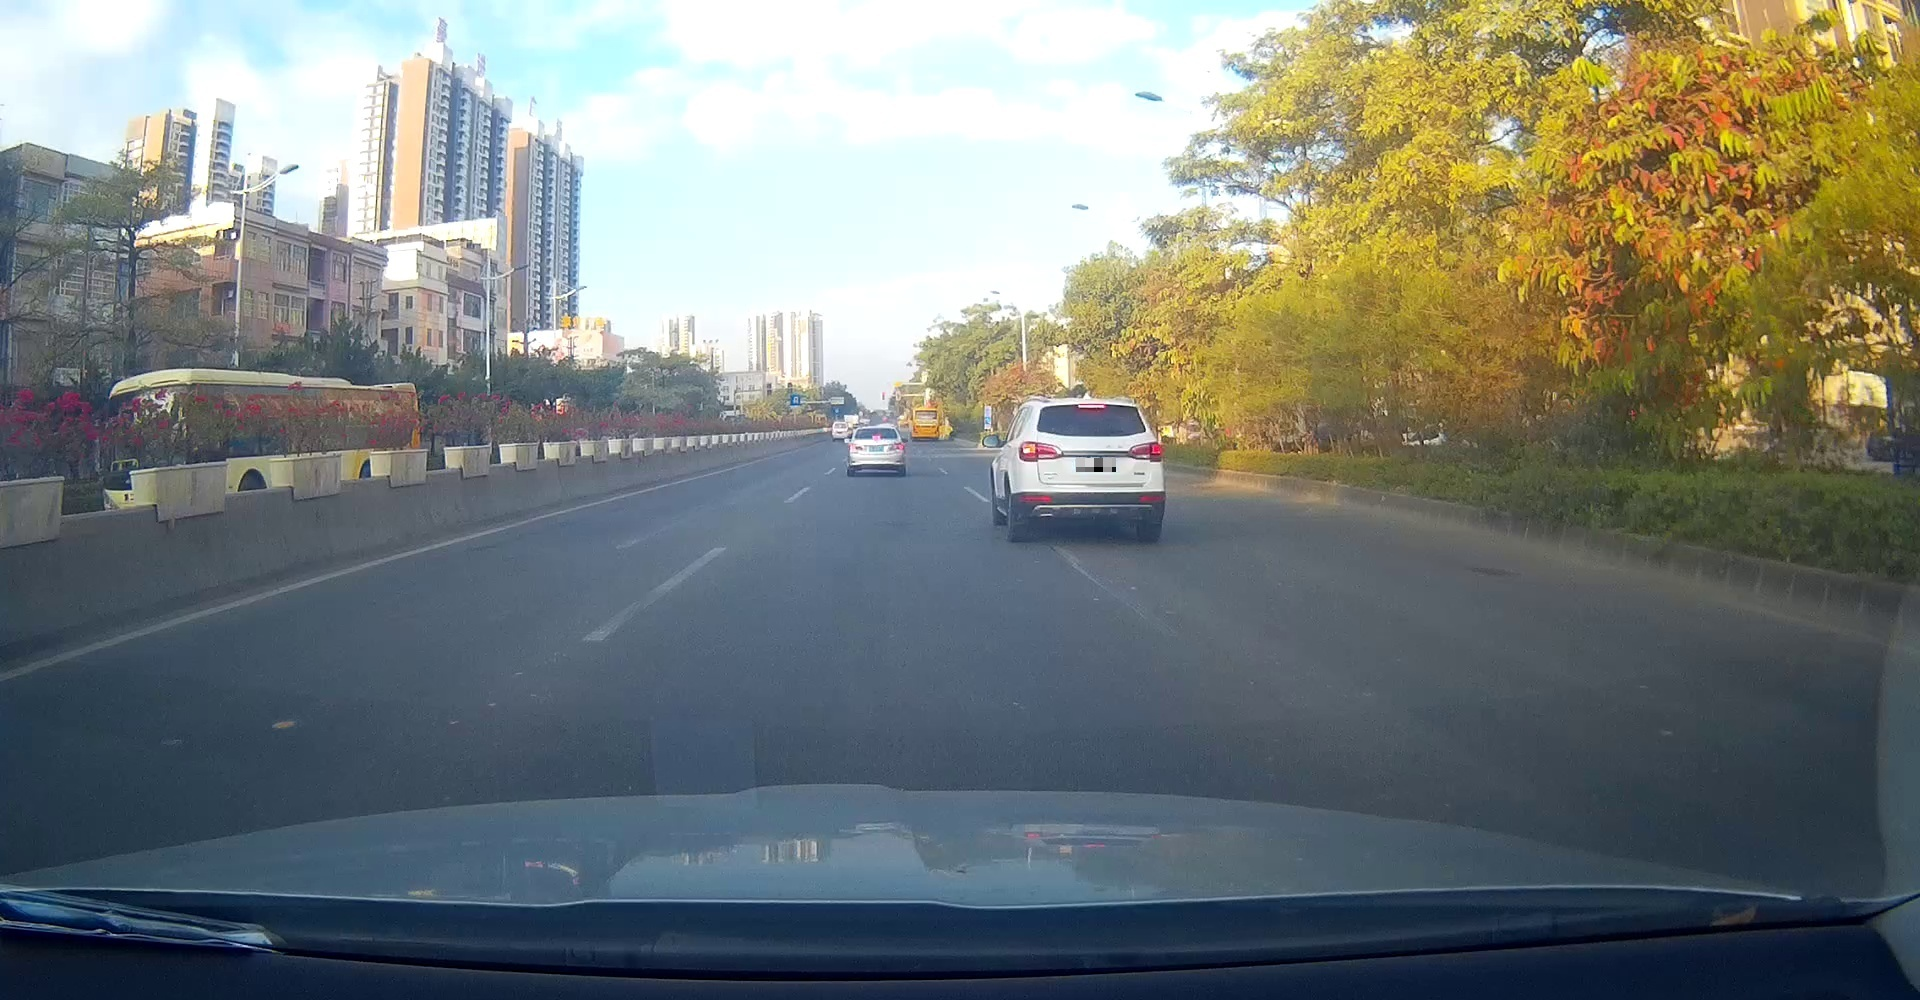L_light: (1018, 440, 1062, 462), (848, 443, 862, 451)
R_light: (1128, 442, 1163, 462), (890, 442, 904, 451)
T_light: (1078, 404, 1106, 409), (872, 435, 881, 440)
day-brake: (1013, 398, 1164, 542), (848, 426, 905, 475)
plate_1: (1076, 458, 1116, 472)
